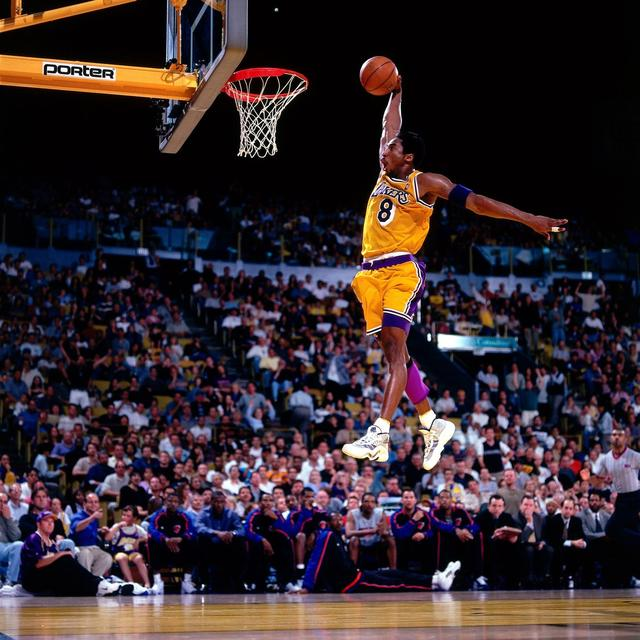ball: (359, 56, 400, 96)
